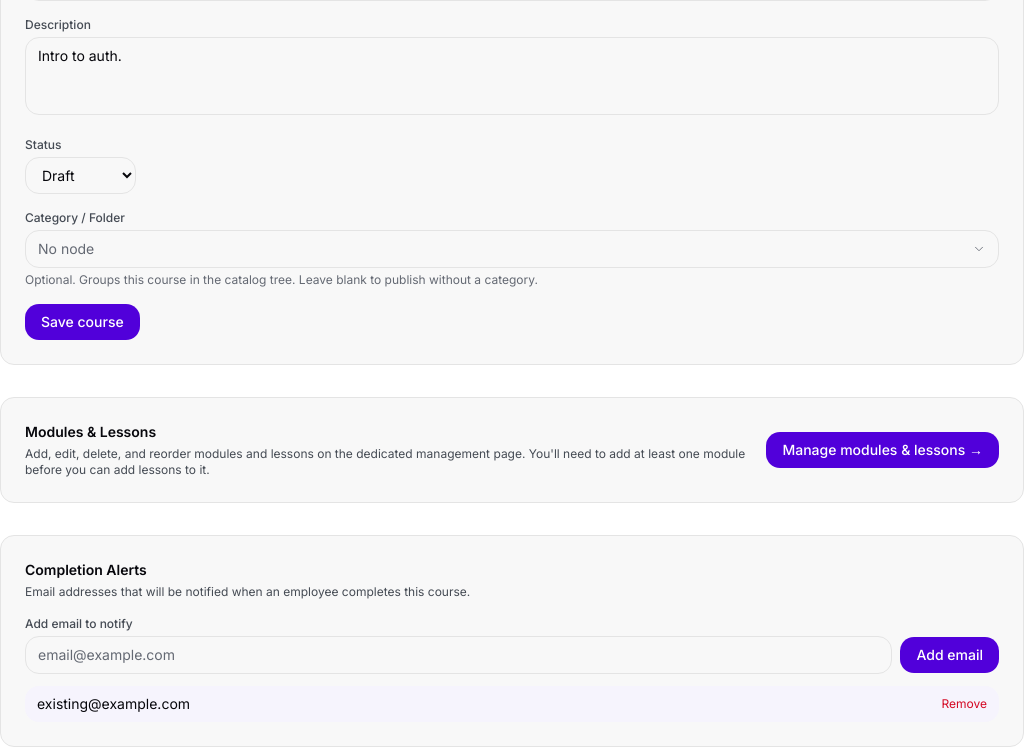
it: CourseEditor — email subscriptions › rejects an invalid email with an inline error
(page scrolled)
Type "not-an-email" into the field with placeholder "email@example.com".
click(459, 655); type("not-an-email")  # box x1=25 y1=636 x2=892 y2=674
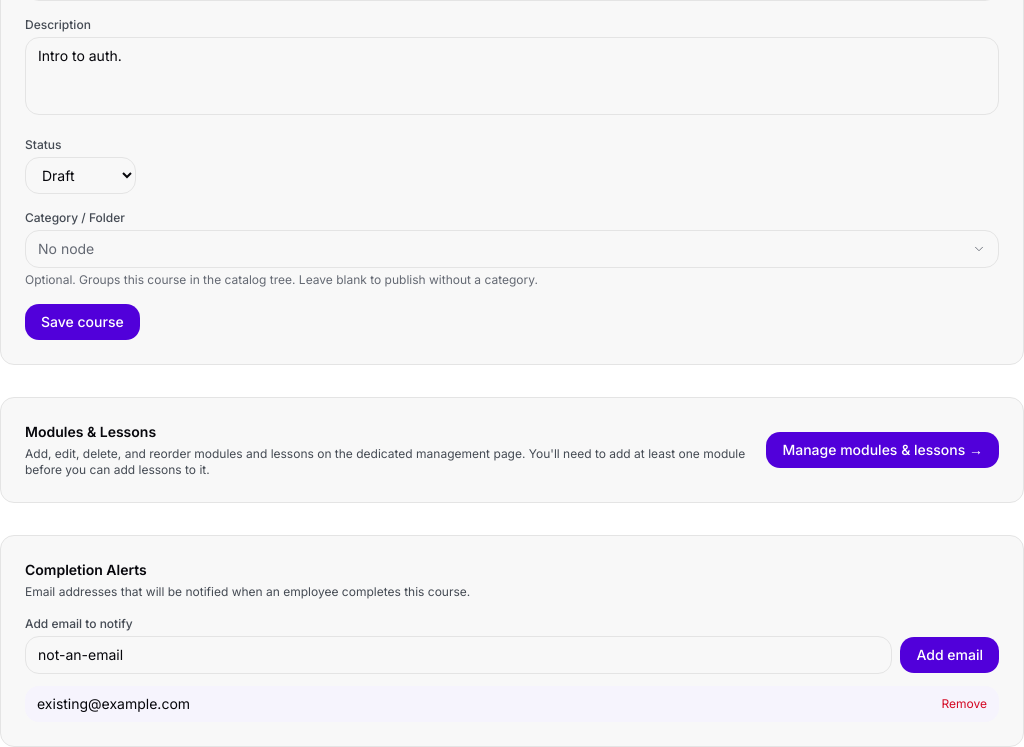
Click the button "Add email".
click(950, 655)  # box x1=900 y1=637 x2=999 y2=673
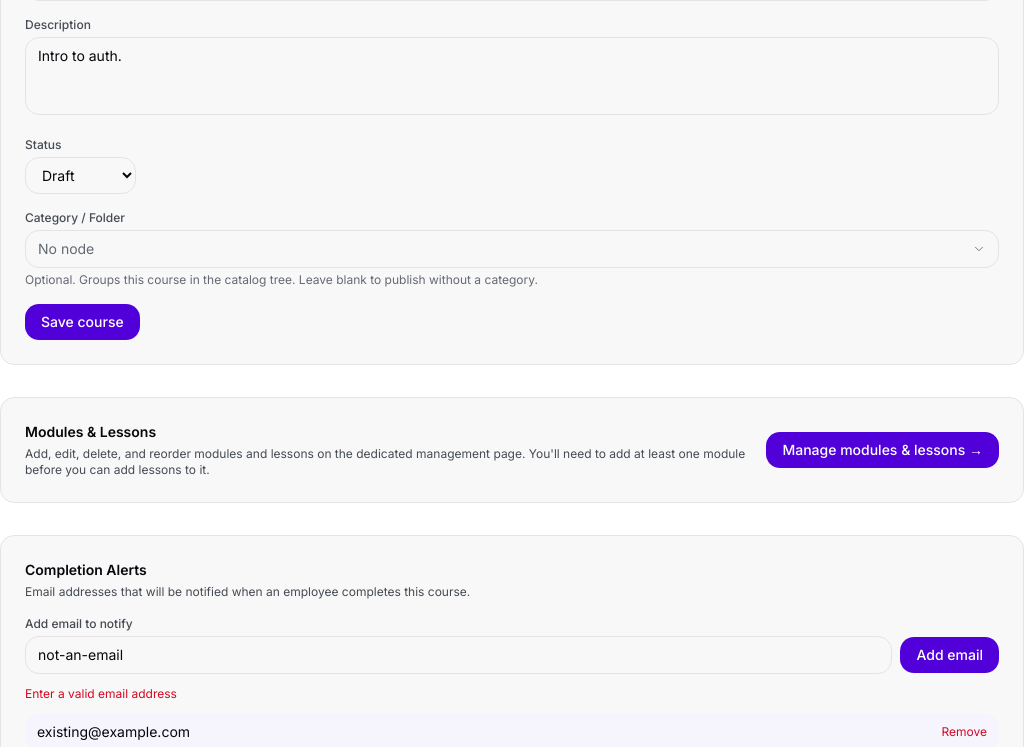
Check: the text "Enter a valid email address" is shown, box x1=25 y1=686 x2=177 y2=701
